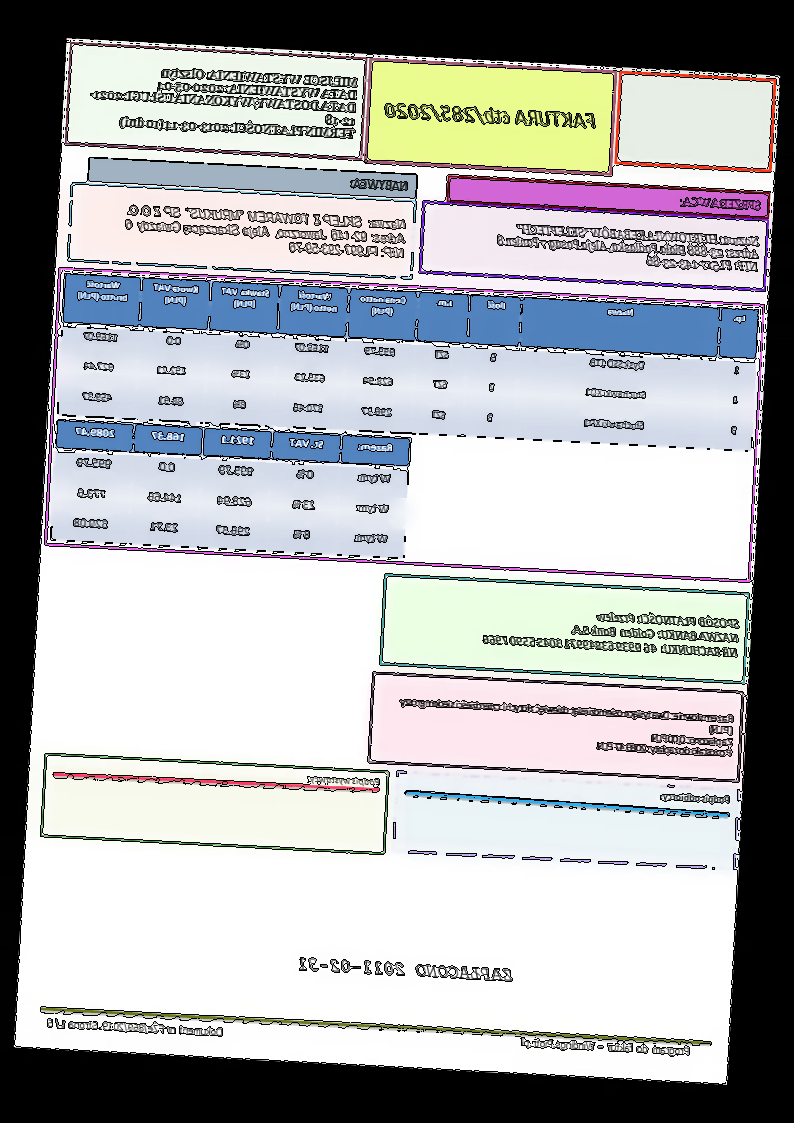Table: (58, 272, 761, 453), (49, 418, 413, 560)
TextBox: (396, 694, 737, 759), (87, 62, 359, 142), (122, 202, 408, 261), (481, 603, 741, 660), (497, 220, 762, 275), (383, 98, 598, 134), (296, 956, 515, 985), (46, 1015, 226, 1043), (520, 1036, 692, 1060), (678, 195, 764, 213), (656, 790, 734, 808), (349, 176, 410, 195), (306, 774, 382, 789)
